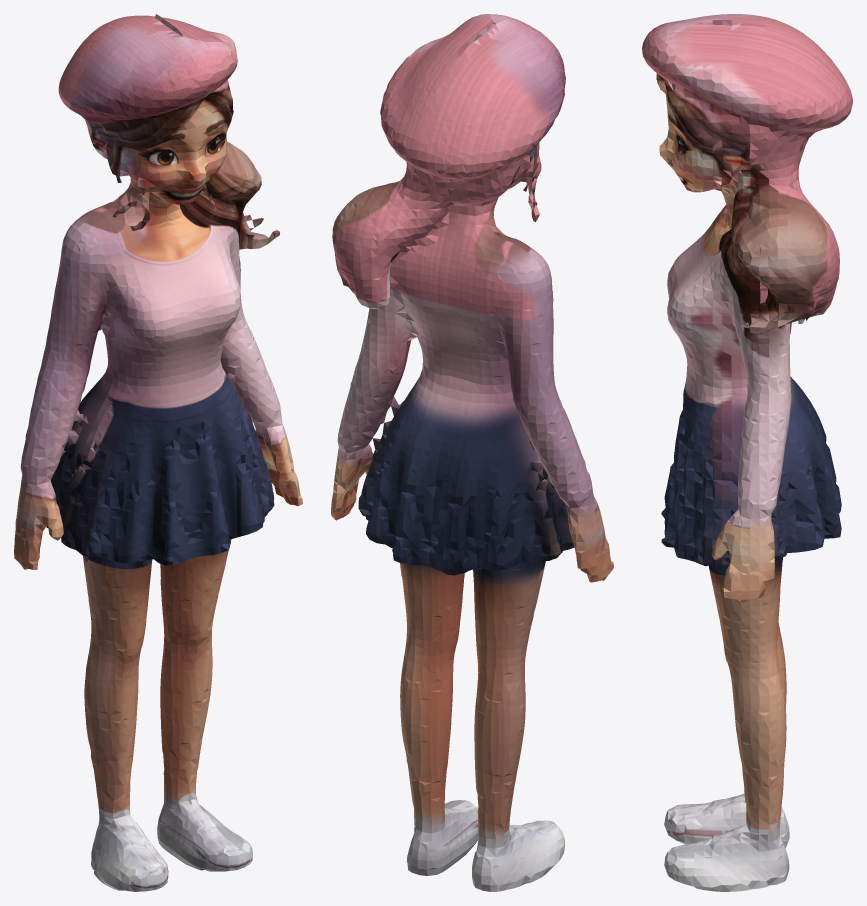
File: lulu.glb
The picture shows the model from 3 angles, left to right: view 1: azimuth 30°, elevation 25°; view 2: azimuth 150°, elevation 25°; view 3: azimuth 270°, elevation 25°; orthographic projection. The views are drawn at different scales.
Visible parts, largest first — view 1: geometry_0; view 2: geometry_0; view 3: geometry_0.
Boxes of the visible parts, x1,y1,x2,y2 form: geometry_0: (14, 14, 302, 891); geometry_0: (331, 14, 613, 891); geometry_0: (642, 14, 852, 891).
Bounding box in the file's own units: 0.3382 × 1 × 0.227.
Materials: 1 (1 with a texture image).
